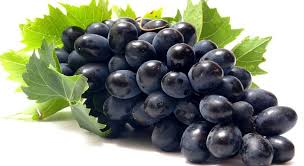Black grapes: (59, 25, 270, 166)
